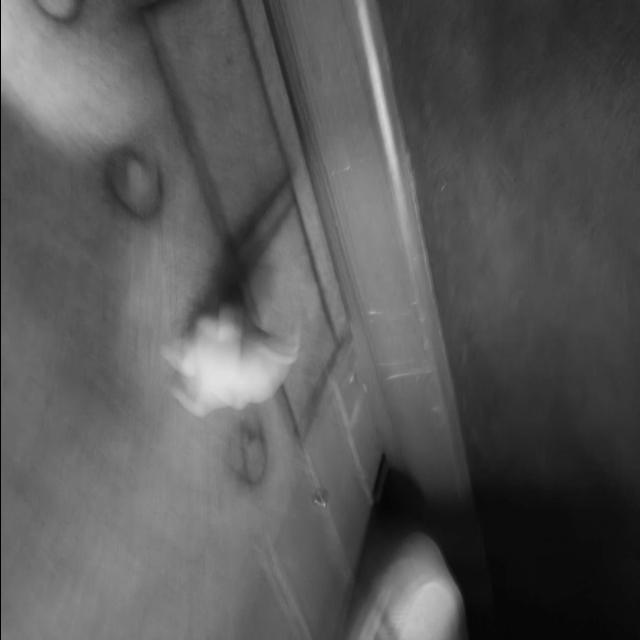DINO: (168, 284, 306, 438)
